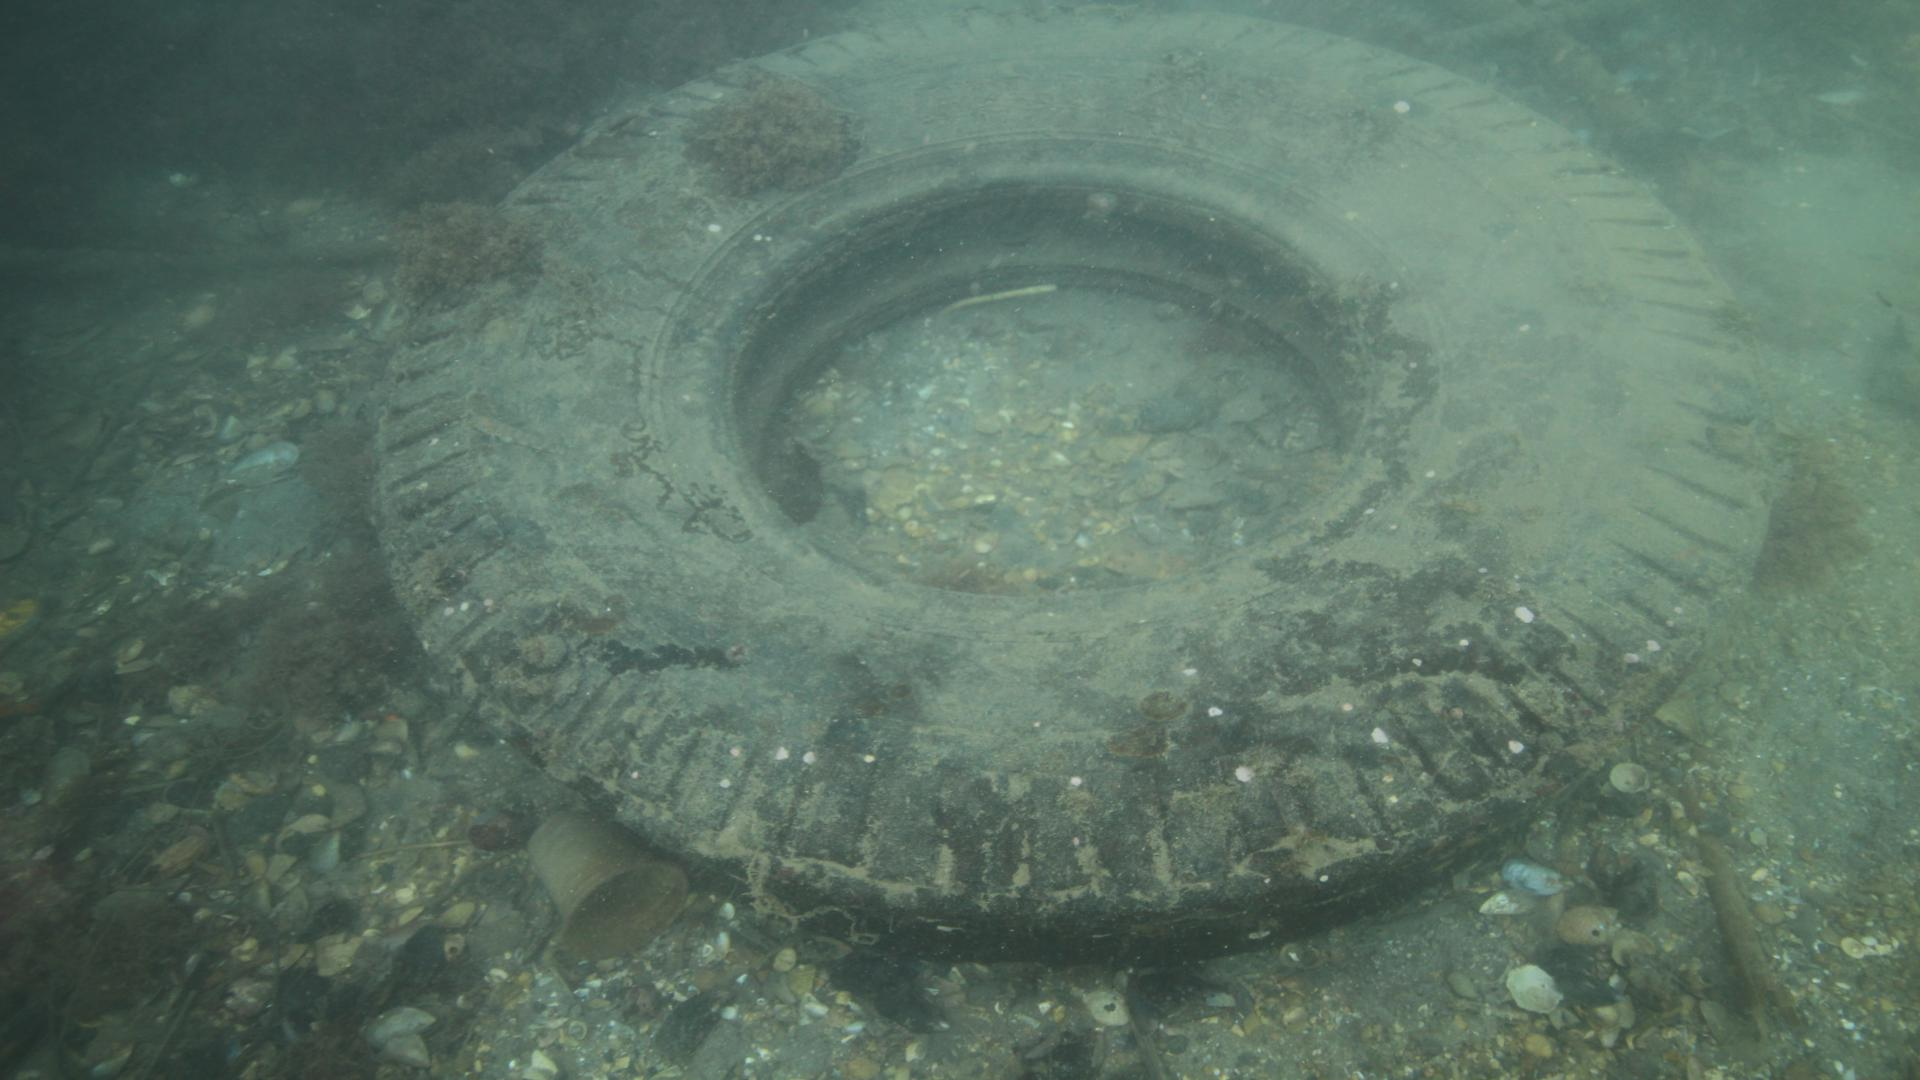tire: (372, 0, 1774, 957)
